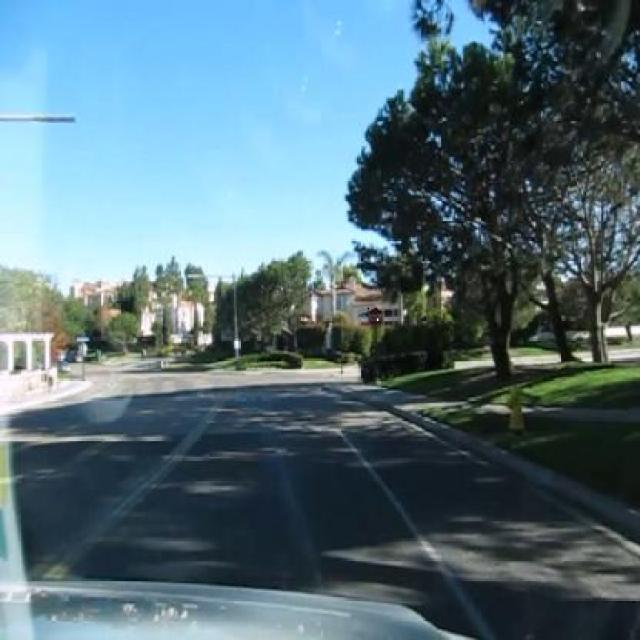stop: (368, 306, 383, 329)
